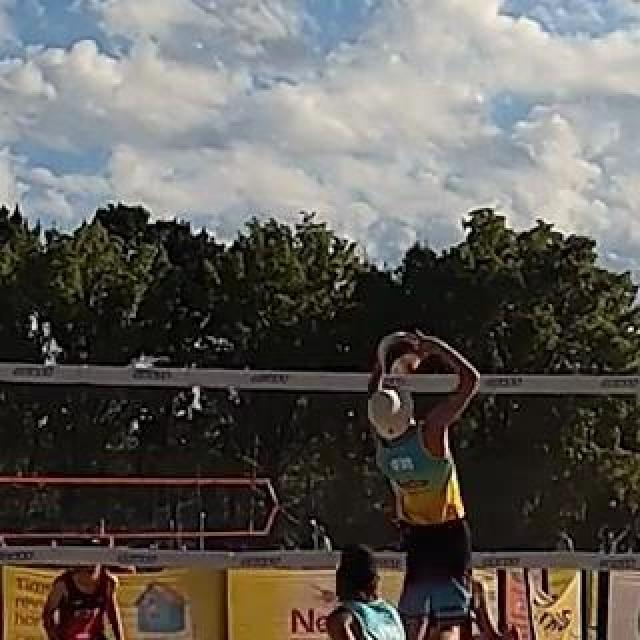volleyball: (380, 331, 422, 375)
